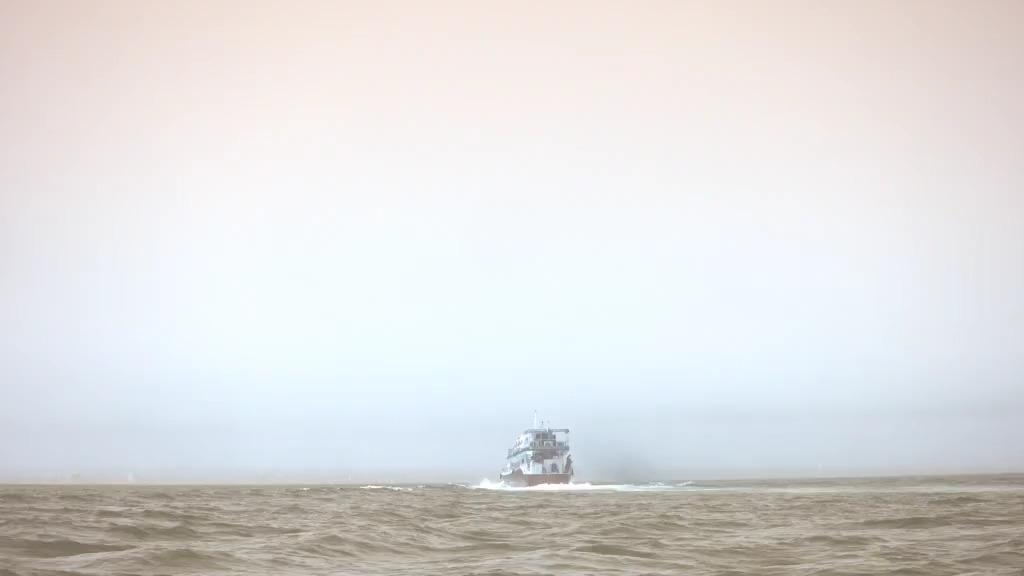PassengerShip: (498, 410, 582, 488)
